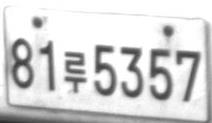1: (37, 40, 61, 91)
3: (119, 45, 144, 98)
5: (93, 43, 117, 97), (149, 48, 173, 100)
7: (175, 50, 201, 102)
8: (10, 37, 35, 89)
루: (64, 50, 87, 93)
